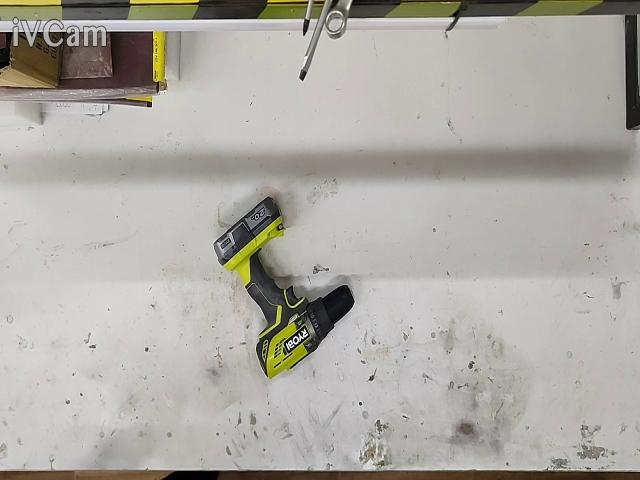Drill: (214, 197, 354, 378)
Wrench: (325, 0, 351, 39)
